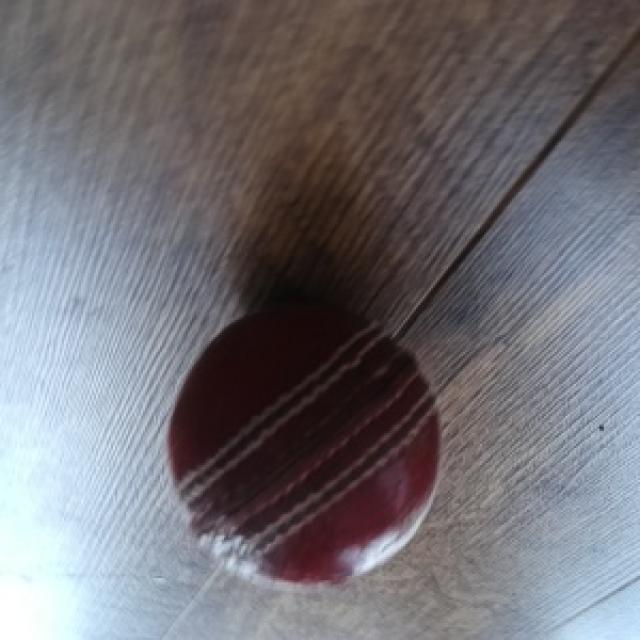ball: (164, 301, 444, 589)
